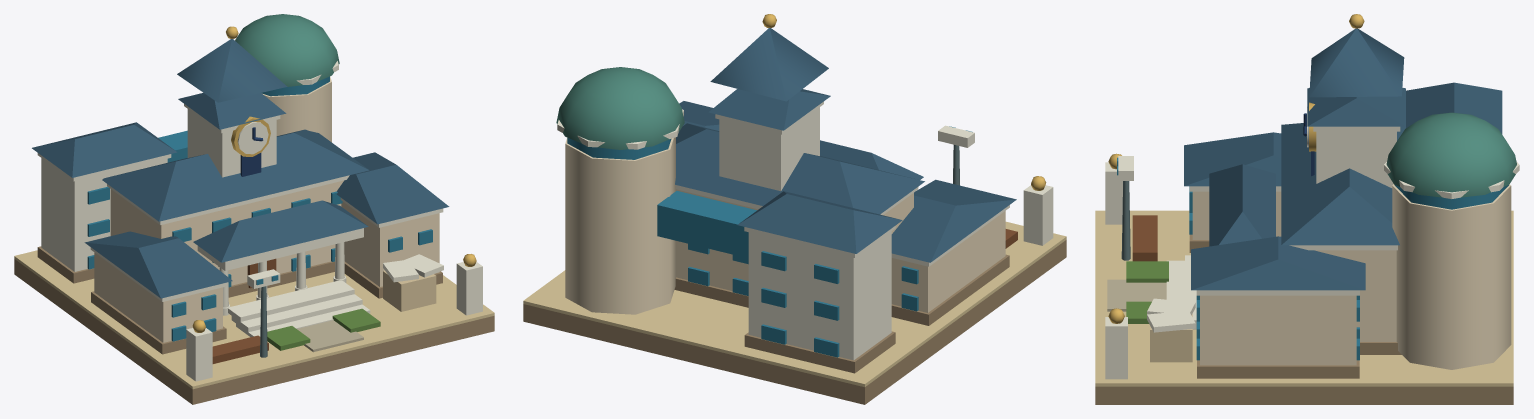
The model's file is university-lv4.glb.
3 renders of one model, left to right at view 1: azimuth 30°, elevation 25°; view 2: azimuth 150°, elevation 25°; view 3: azimuth 270°, elevation 25°, orthographic. The views are drawn at different scales.
Parts seen in each view (by area): view 1: foundation_sand, lecture_hall_roof_roof, foundation_stoneDark, research_hall_white, portico_pediment_roof, library_wing_roof_roof, lecture_hall_cream, observatory_dome_copper, library_wing_cream, science_wing_roof_roof, research_hall_roof_roof, entrance_steps_white (+29 smaller); view 2: observatory_cream, research_hall_white, foundation_sand, foundation_stoneDark, lecture_hall_roof_roof, observatory_dome_copper, library_wing_roof_roof, clock_tower_white, research_hall_roof_roof, library_wing_cream, tower_cap_roof, research_bridge_glass (+15 smaller); view 3: observatory_cream, foundation_sand, science_wing_cream, lecture_hall_roof_roof, observatory_dome_copper, foundation_stoneDark, science_wing_roof_roof, tower_cap_roof, portico_pediment_roof, clock_tower_white, library_wing_roof_roof, lecture_hall_cream (+19 smaller).
Part boxes in pixels (x1,y1,x2,y2): foundation_sand: (14,250,494,389); lecture_hall_roof_roof: (102,129,369,221); foundation_stoneDark: (14,259,494,404); research_hall_white: (37,153,171,271); portico_pediment_roof: (193,200,368,262); library_wing_roof_roof: (84,231,232,298); lecture_hall_cream: (110,180,343,285); observatory_dome_copper: (235,14,339,86); library_wing_cream: (94,252,222,342); science_wing_roof_roof: (337,152,449,224); research_hall_roof_roof: (32,122,177,177); entrance_steps_white: (228,280,370,337); observatory_cream: (565,137,675,314); research_hall_white: (744,226,895,360); foundation_sand: (523,221,1066,387); foundation_stoneDark: (523,240,1066,404); lecture_hall_roof_roof: (675,123,924,214); observatory_dome_copper: (556,67,684,149); library_wing_roof_roof: (891,179,1016,262); clock_tower_white: (715,101,823,191); research_hall_roof_roof: (738,191,902,253); library_wing_cream: (891,211,1005,312); tower_cap_roof: (710,28,828,101); research_bridge_glass: (657,191,756,258); observatory_cream: (1392,184,1511,369); foundation_sand: (1095,210,1513,386); science_wing_cream: (1200,295,1356,365); lecture_hall_roof_roof: (1281,123,1405,245); observatory_dome_copper: (1386,112,1516,197); foundation_stoneDark: (1095,386,1513,404); science_wing_roof_roof: (1191,236,1365,290); tower_cap_roof: (1309,28,1404,97); portico_pediment_roof: (1209,164,1275,246); clock_tower_white: (1313,126,1400,187); library_wing_roof_roof: (1184,132,1281,186); lecture_hall_cream: (1315,250,1396,341).
Bounding box in the file's own units: 0.9633 × 0.7913 × 1.
